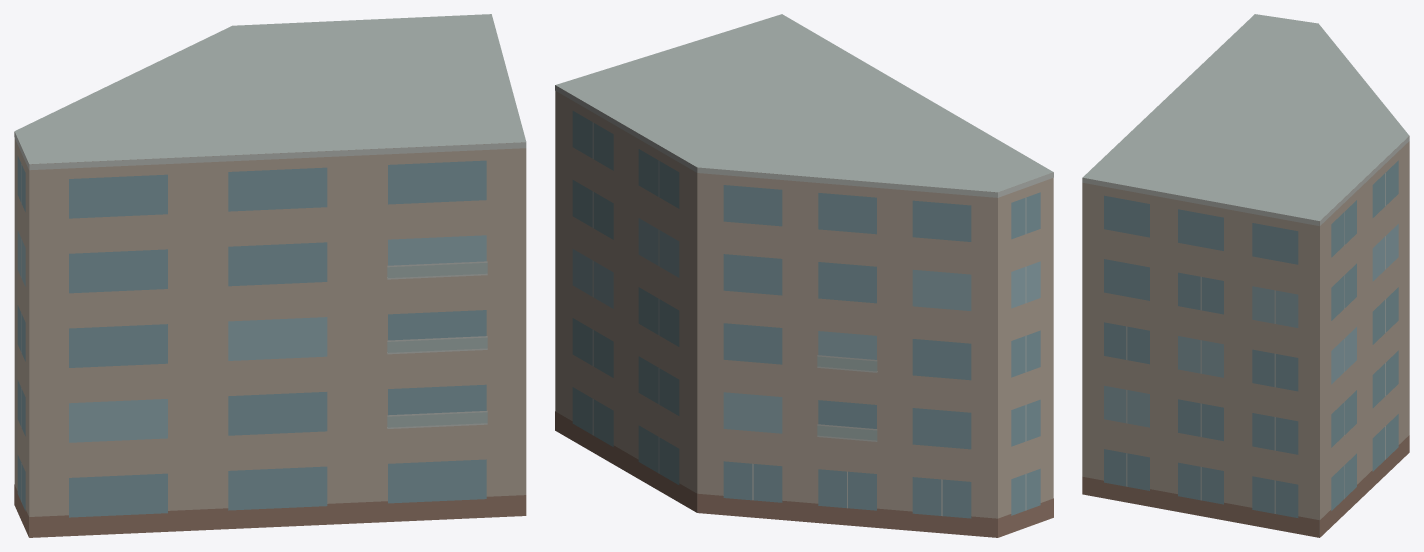
The model's file is survey-upis-32846174.glb.
The picture shows the model from 3 angles, left to right: view 1: azimuth 30°, elevation 25°; view 2: azimuth 150°, elevation 25°; view 3: azimuth 270°, elevation 25°; orthographic projection. The views are drawn at different scales.
Parts seen in each view (by area): view 1: survey-upis-32846174.tmp; view 2: survey-upis-32846174.tmp; view 3: survey-upis-32846174.tmp.
Part boxes in pixels (x1=…): survey-upis-32846174.tmp: x1=14, y1=14, x2=526, y2=537; survey-upis-32846174.tmp: x1=555, y1=14, x2=1053, y2=537; survey-upis-32846174.tmp: x1=1082, y1=14, x2=1409, y2=537.
Bounding box in the file's own units: 21.4 × 15.25 × 14.28.
